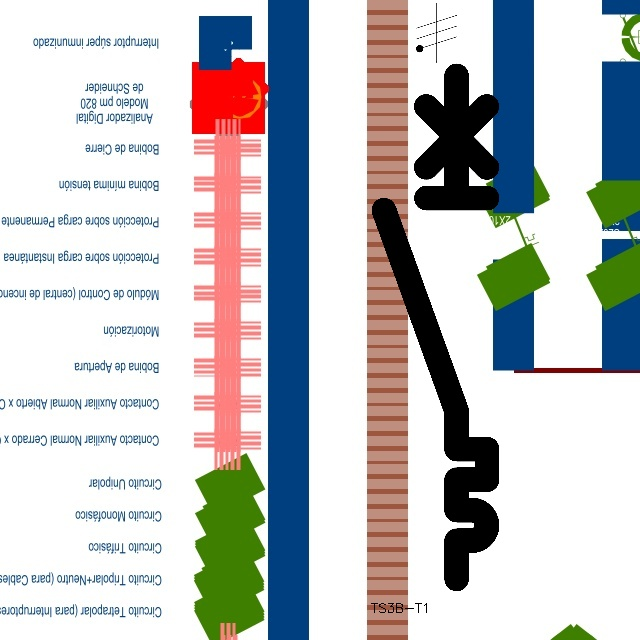interruptor_termomagnetico: (371, 62, 500, 591)
